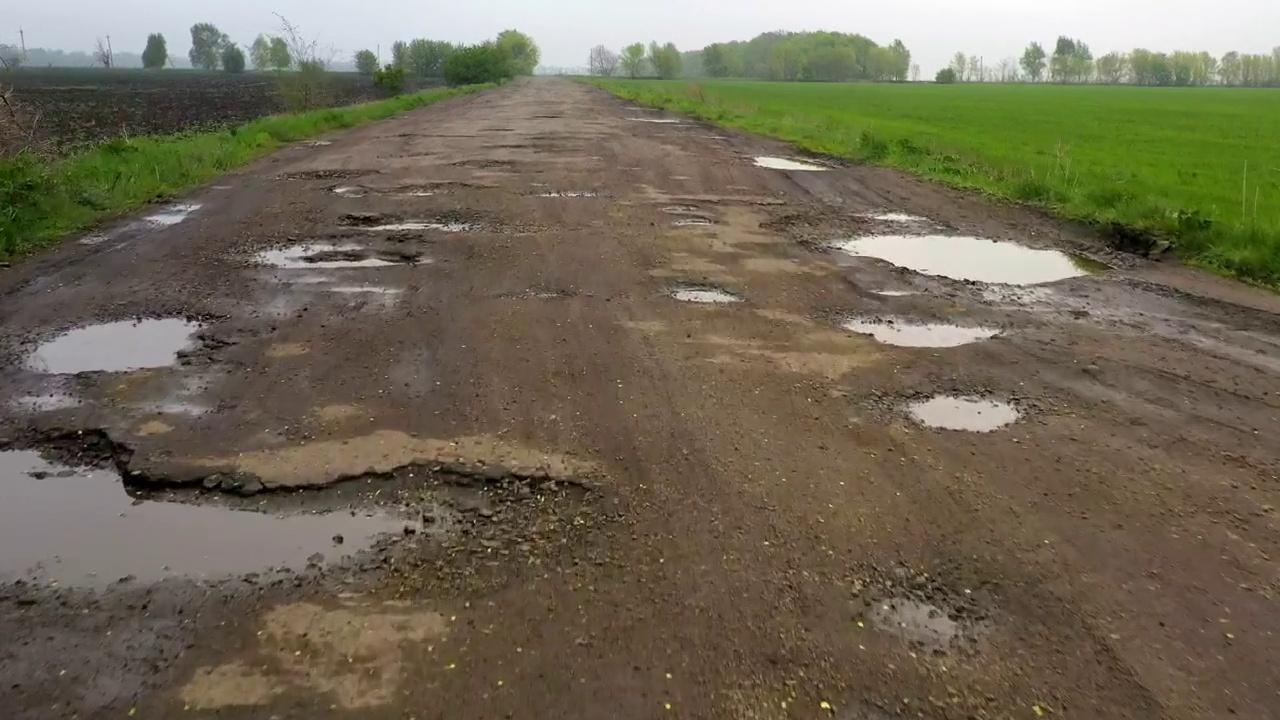bache: (0, 425, 591, 591), (850, 563, 988, 654), (833, 235, 1085, 284), (27, 318, 202, 374), (841, 318, 999, 346), (257, 243, 427, 268), (908, 395, 1019, 431), (340, 210, 491, 231), (669, 285, 741, 303), (674, 216, 713, 225)
